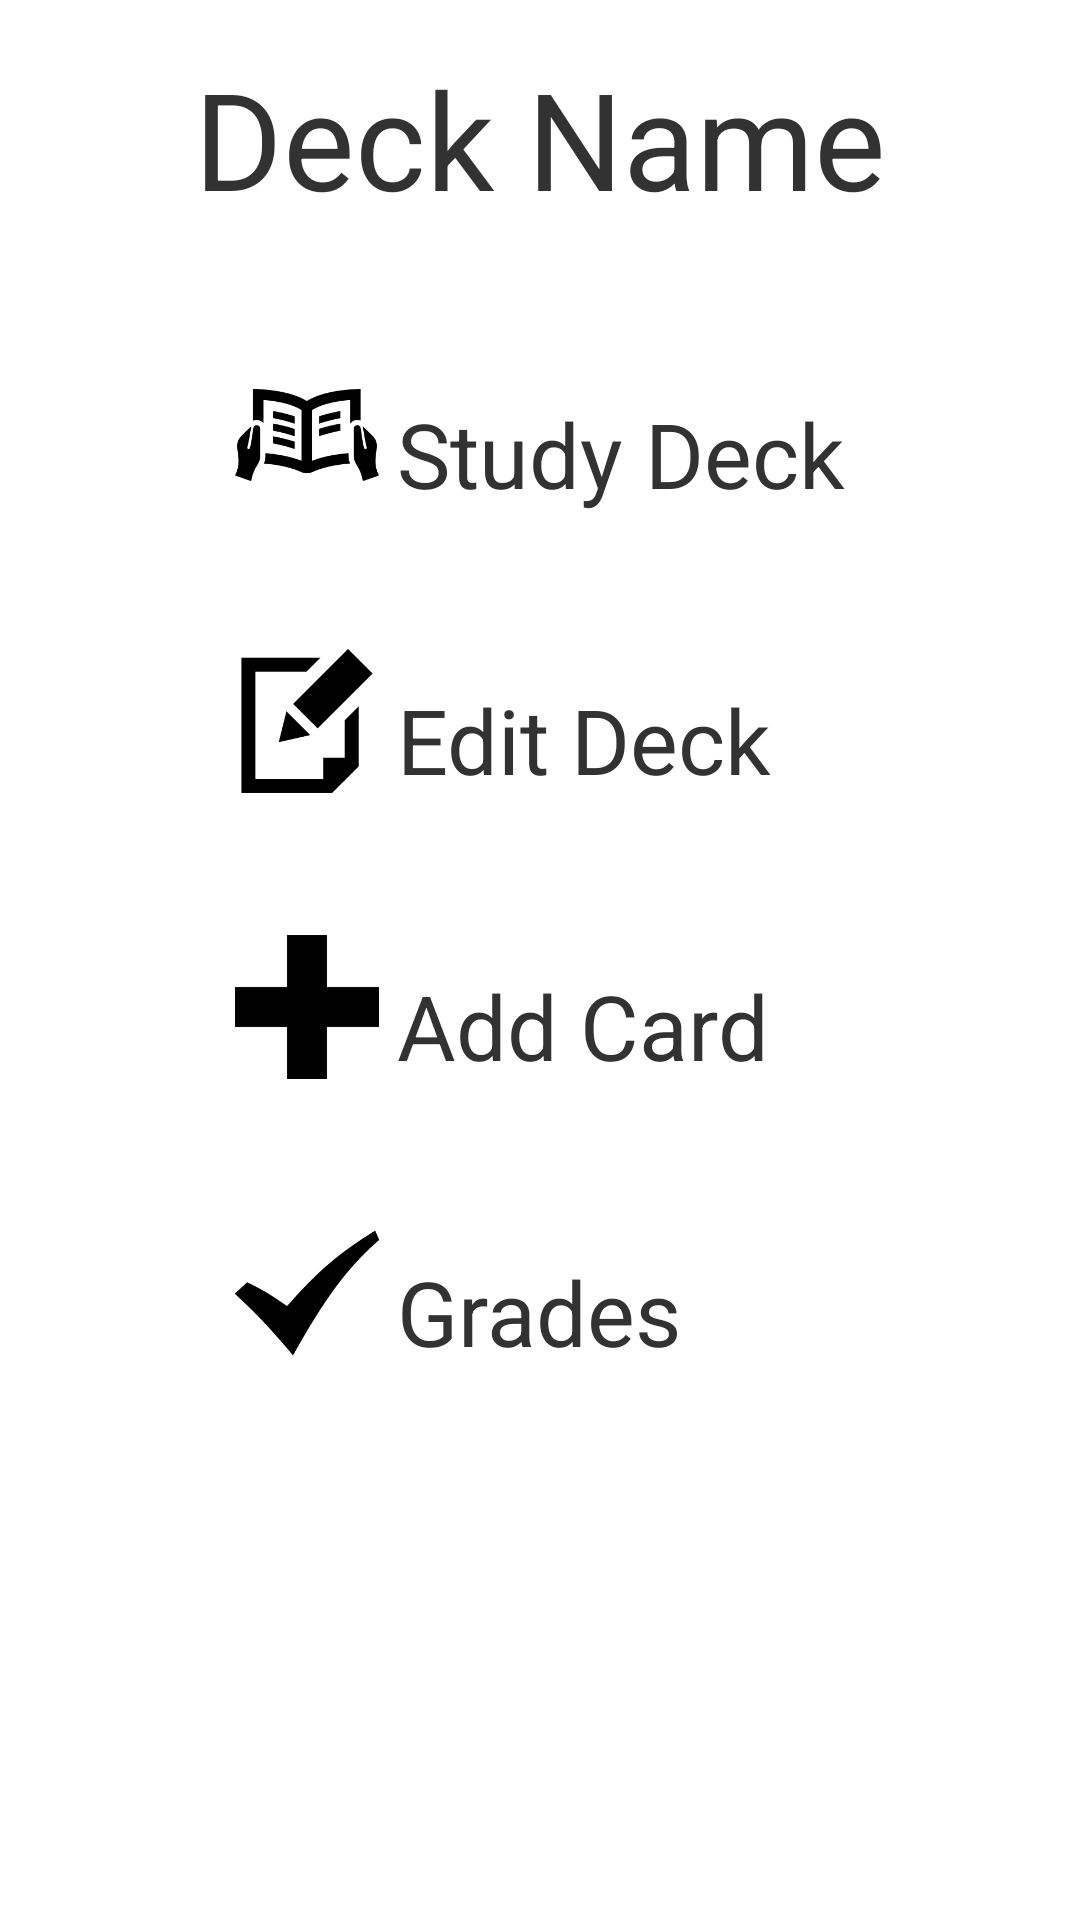

Where to tap for icons on this 1080x1920 app screen, as [x,y]:
checkmark: [307,1293]
